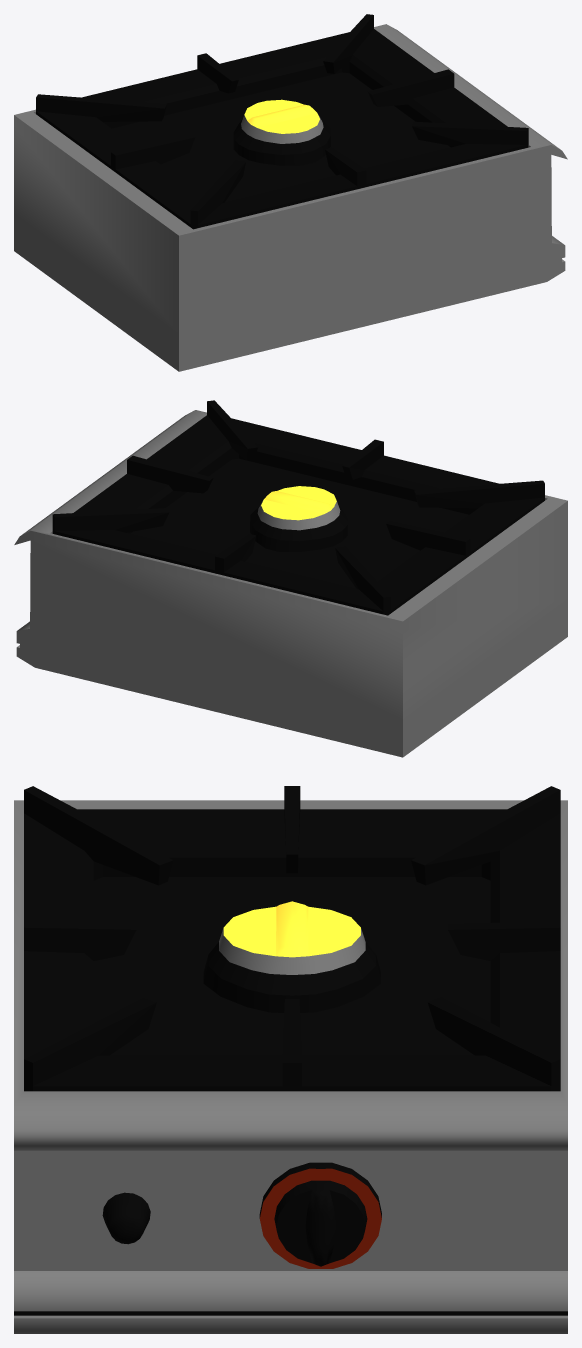
The model's file is oven_single.fbx.
3 renders of one model, top to bottom at view 1: azimuth 30°, elevation 25°; view 2: azimuth 150°, elevation 25°; view 3: azimuth 270°, elevation 25°, orthographic. The views are drawn at different scales.
Parts seen in each view (by area): view 1: Oven_single; view 2: Oven_single; view 3: Oven_single.
Boxes of the visible parts, box(x1,y1,x2,y2) form: Oven_single: box(14, 14, 567, 371); Oven_single: box(14, 400, 567, 757); Oven_single: box(14, 786, 567, 1333).
Size of the model in its own units: 153 by 78.76 by 212.
